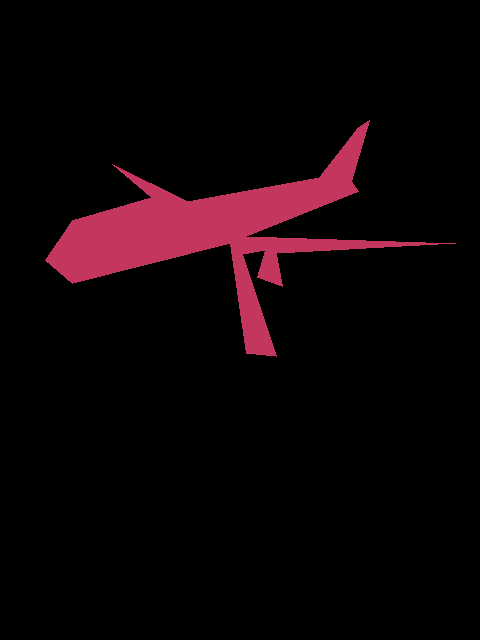Airplane: (45, 120, 456, 357)
